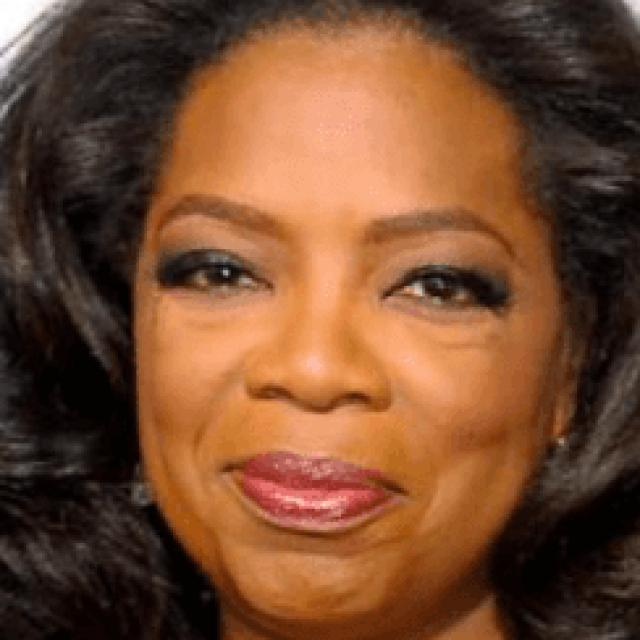Normal: (136, 25, 559, 616)
